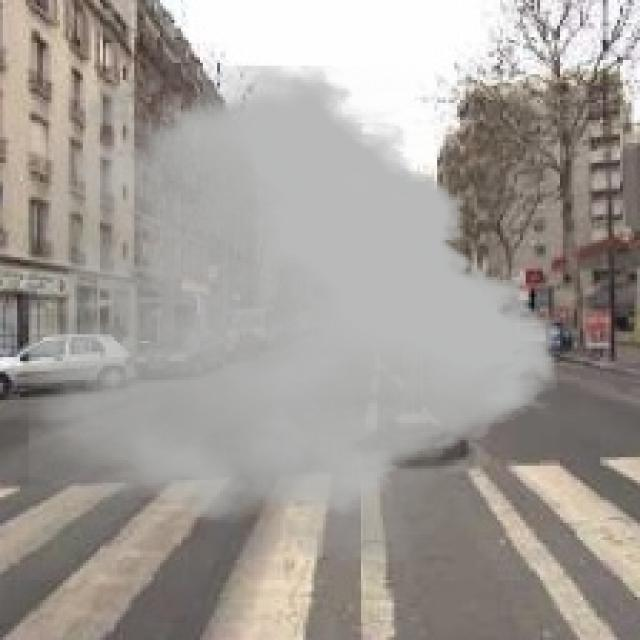Smoke: (29, 57, 558, 580)
